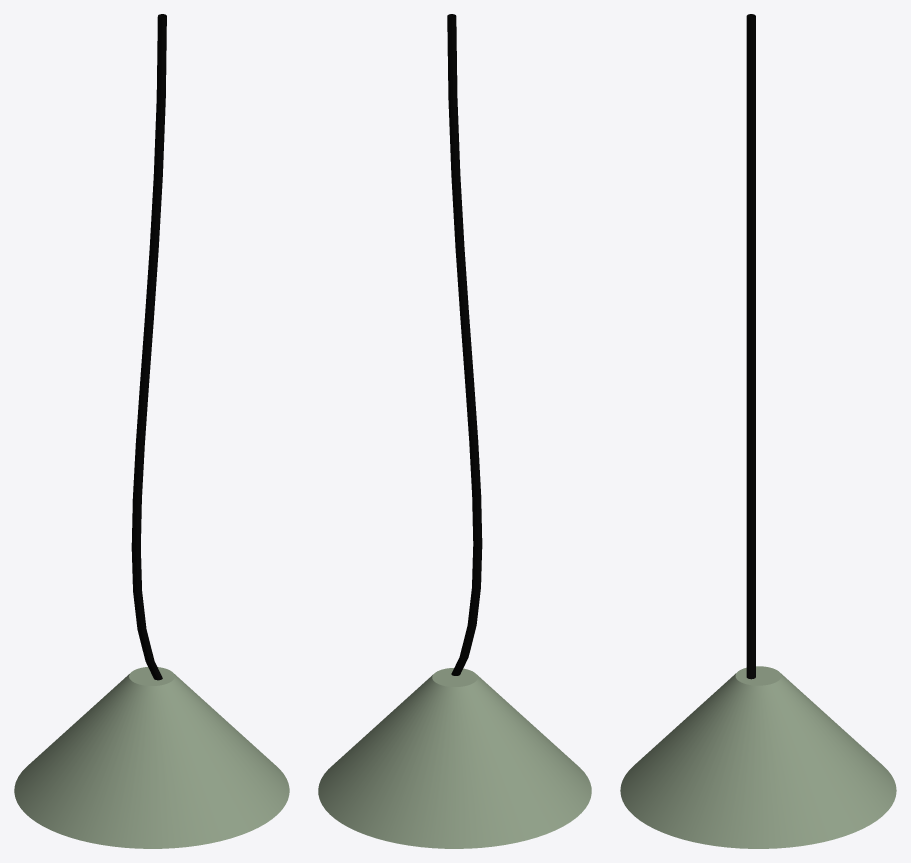
File: lampara.fbx
The picture shows the model from 3 angles, left to right: view 1: azimuth 30°, elevation 25°; view 2: azimuth 150°, elevation 25°; view 3: azimuth 270°, elevation 25°; orthographic projection.
Visible parts, largest first — view 1: lámpara; view 2: lámpara; view 3: lámpara.
Boxes of the visible parts, x1,y1,x2,y2 form: lámpara: [14, 14, 289, 848]; lámpara: [318, 14, 591, 848]; lámpara: [620, 14, 896, 848].
Bounding box in the file's own units: 30.13 × 94.33 × 30.16.
